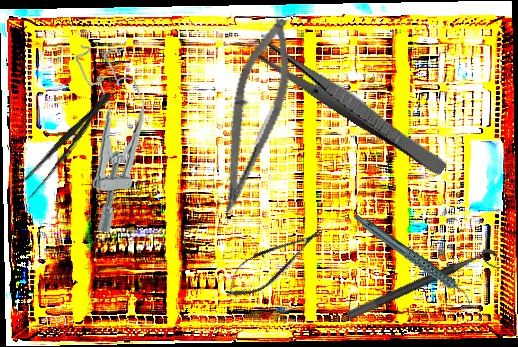Dressing Forceps: (250, 35, 452, 178), (15, 84, 119, 202)
Fixation Ring: (346, 245, 502, 333)
Handpiece: (353, 193, 475, 326)
Micro Scissor: (210, 12, 302, 220), (216, 216, 331, 308)
Speculum: (75, 41, 151, 234)
